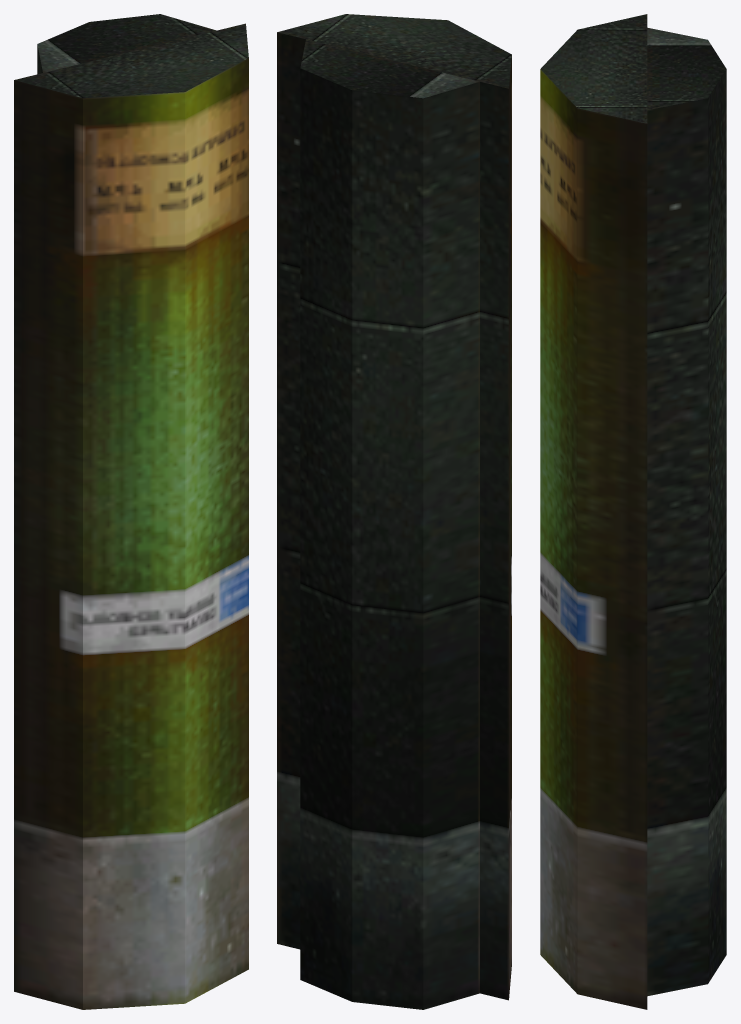
The model's file is subway_sign02.fbx.
The picture shows the model from 3 angles, left to right: view 1: azimuth 30°, elevation 25°; view 2: azimuth 150°, elevation 25°; view 3: azimuth 270°, elevation 25°; orthographic projection. The views are drawn at different scales.
Parts seen in each view (by area): view 1: mesh_0; view 2: mesh_0; view 3: mesh_0.
Part boxes in pixels (<box>): mesh_0: <box>14,14,248,1009</box>; mesh_0: <box>277,14,511,1009</box>; mesh_0: <box>540,14,726,1009</box>.
Bounding box in the file's own units: 55.89 × 210 × 40.
1 material, 1 textured.
